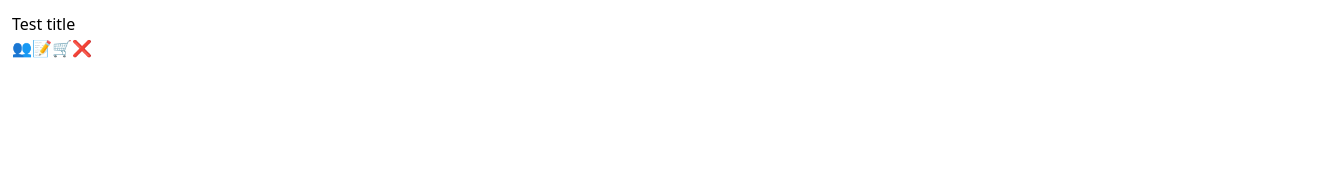
Test case: CardHeadContent › Rendered (toggle delete confirmation)
Step 1. Click the button "❌" → (82, 48), box [72,36,92,60]
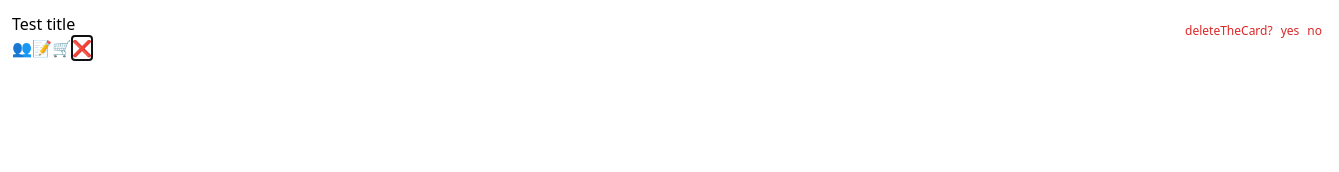
Check: the text "deleteTheCard?" is shown, box [1185,22,1273,39]
Check: the button "yes" is shown
Step 2. Click the button "yes" → (1290, 31), box [1281,24,1299,38]
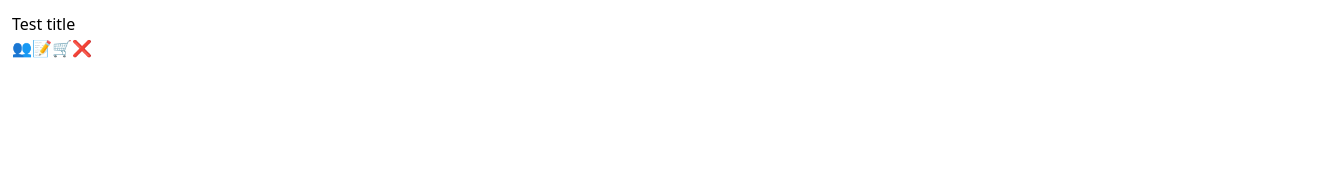
Check: the text "deleteTheCard" is gone
